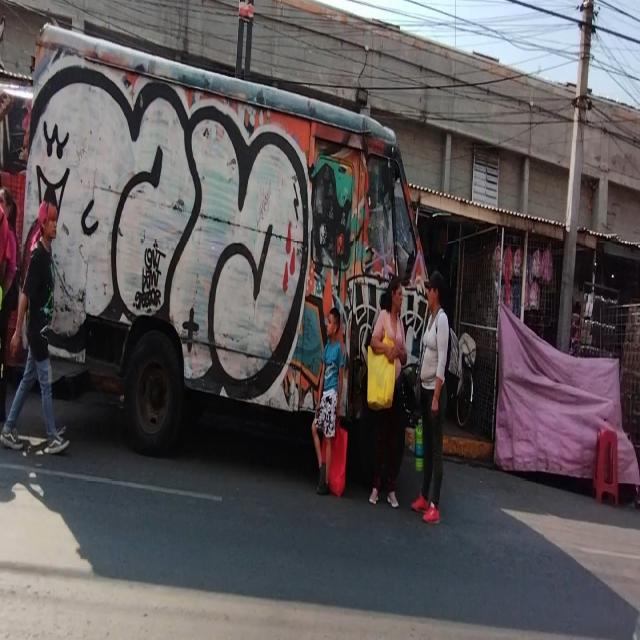adult: (2, 196, 69, 450), (412, 271, 449, 523), (370, 276, 408, 507)
child: (312, 308, 344, 495)
